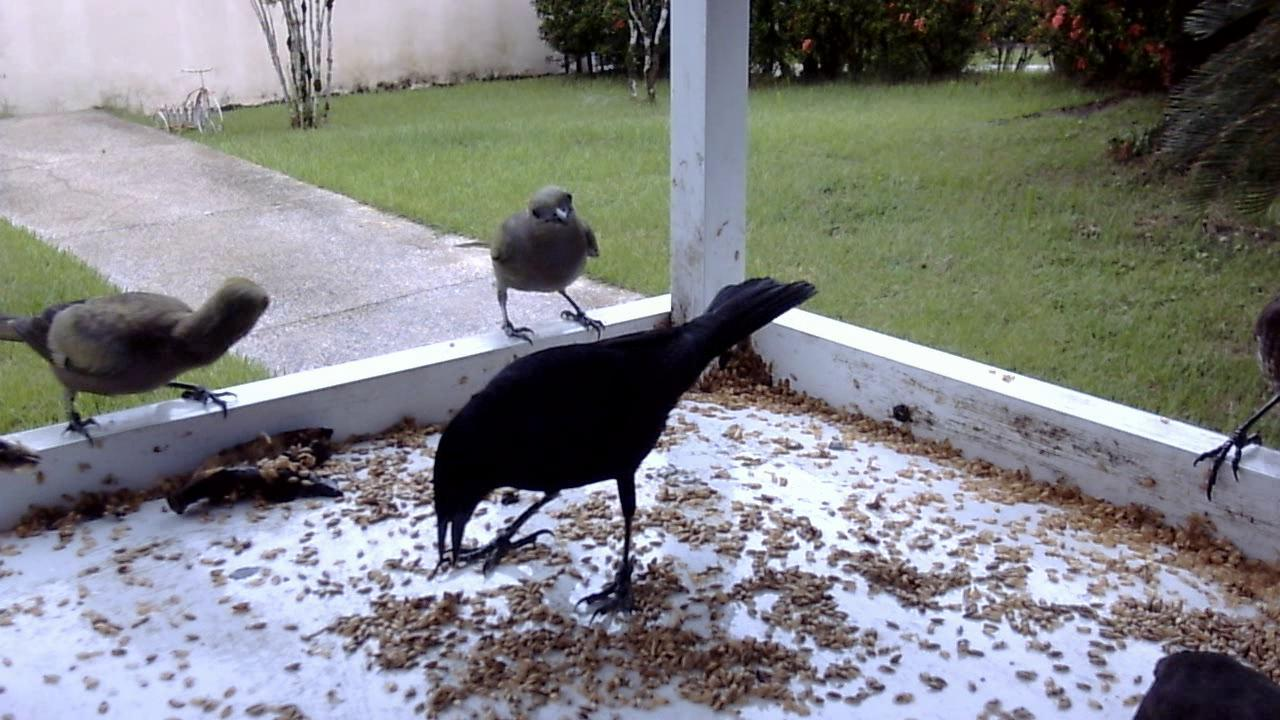chupim: (427, 274, 822, 633), (471, 181, 611, 354)
sanhaco_do_coqueiro: (1, 263, 275, 452)
